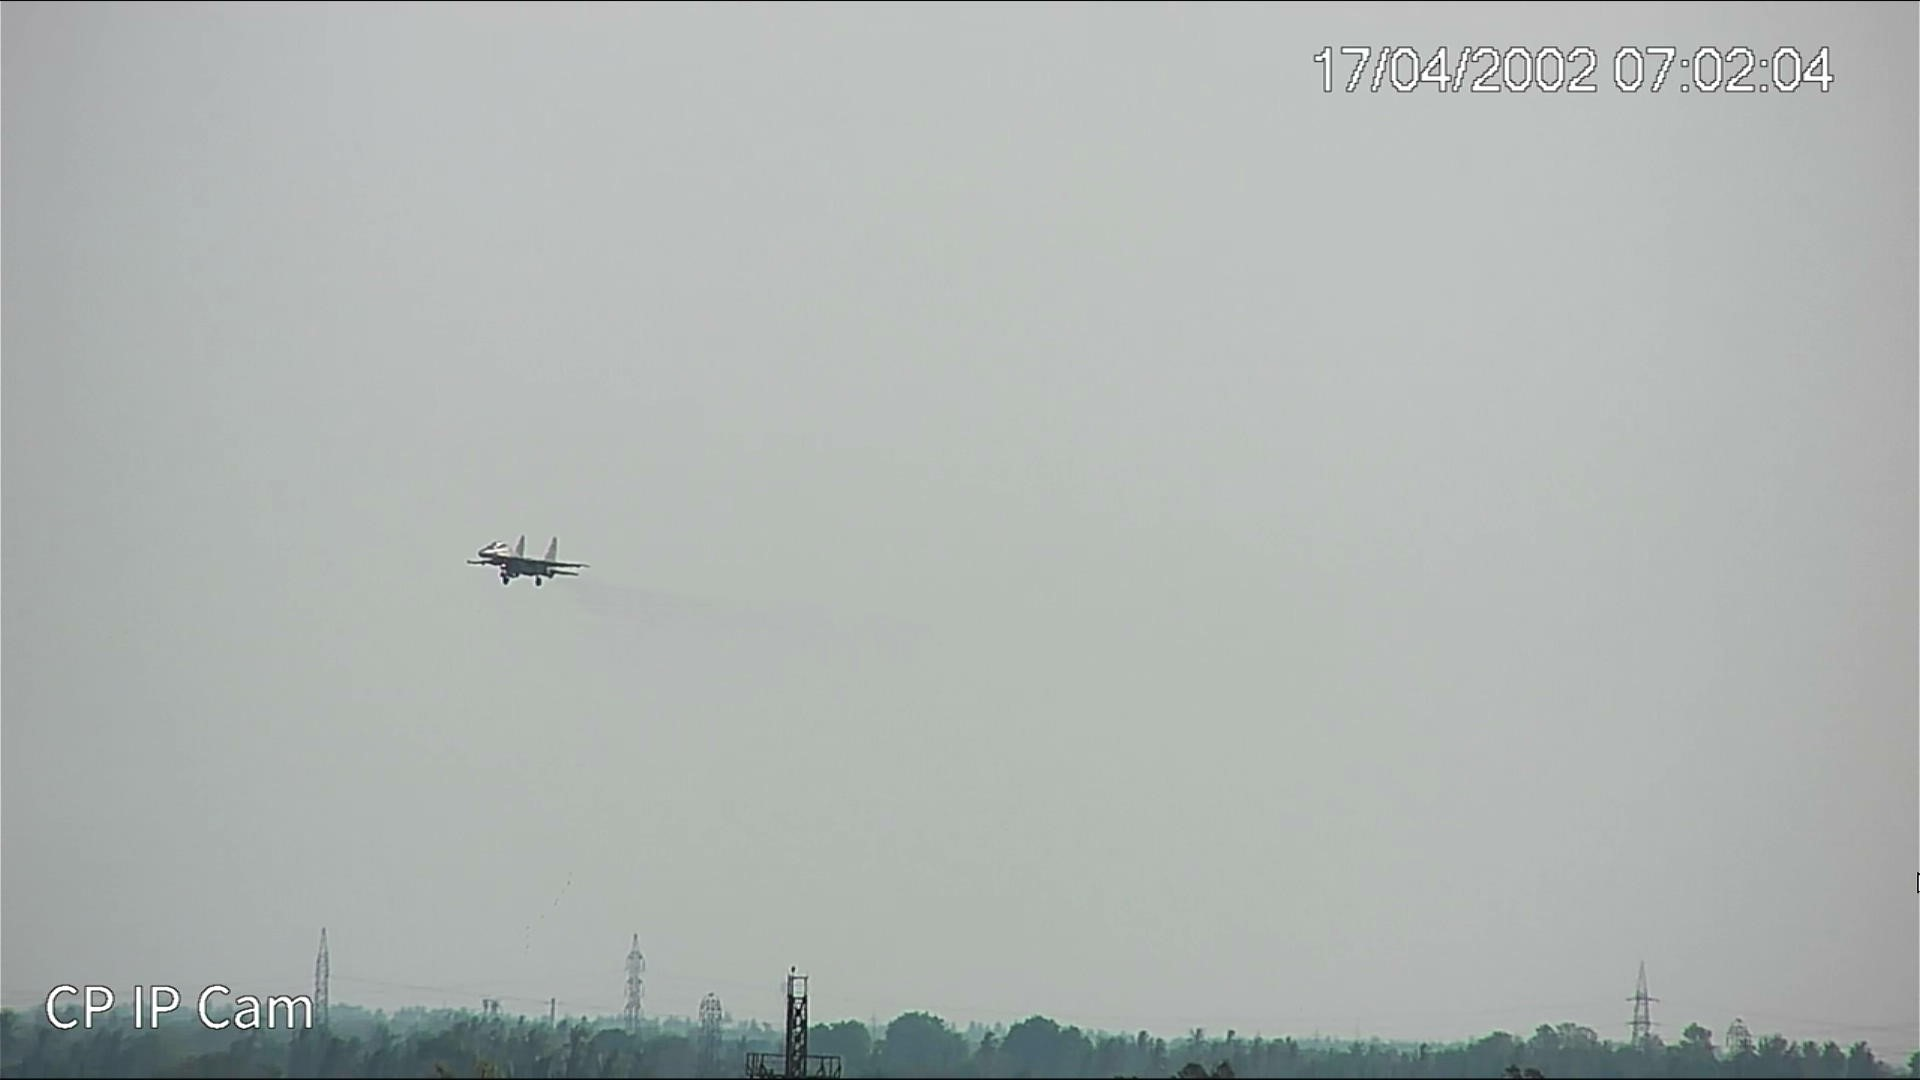SU_30: (464, 535, 592, 585)
